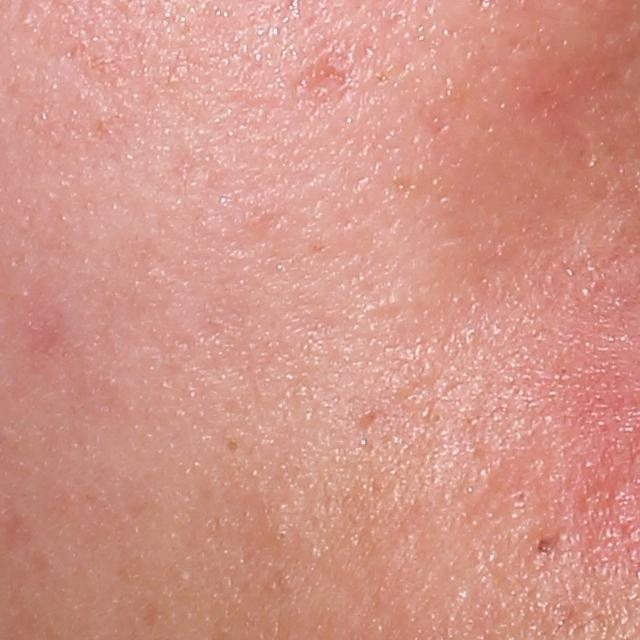comedo: (426, 410, 445, 426)
